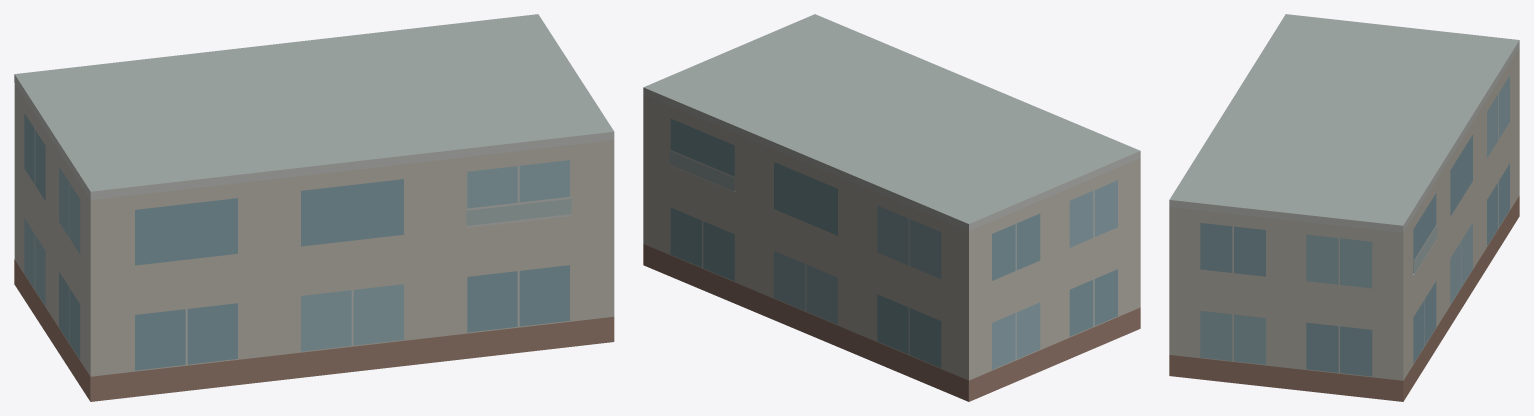
Rendered from survey-upis-32562526.glb.
The picture shows the model from 3 angles, left to right: view 1: azimuth 30°, elevation 25°; view 2: azimuth 150°, elevation 25°; view 3: azimuth 270°, elevation 25°; orthographic projection. The views are drawn at different scales.
Visible parts, largest first — view 1: survey-upis-32562526.tmp; view 2: survey-upis-32562526.tmp; view 3: survey-upis-32562526.tmp.
Boxes of the visible parts, x1,y1,x2,y2 form: survey-upis-32562526.tmp: (14, 14, 614, 401); survey-upis-32562526.tmp: (643, 14, 1140, 401); survey-upis-32562526.tmp: (1169, 14, 1519, 401).
Size of the model in its own units: 15.74 by 6.1 by 11.01.
